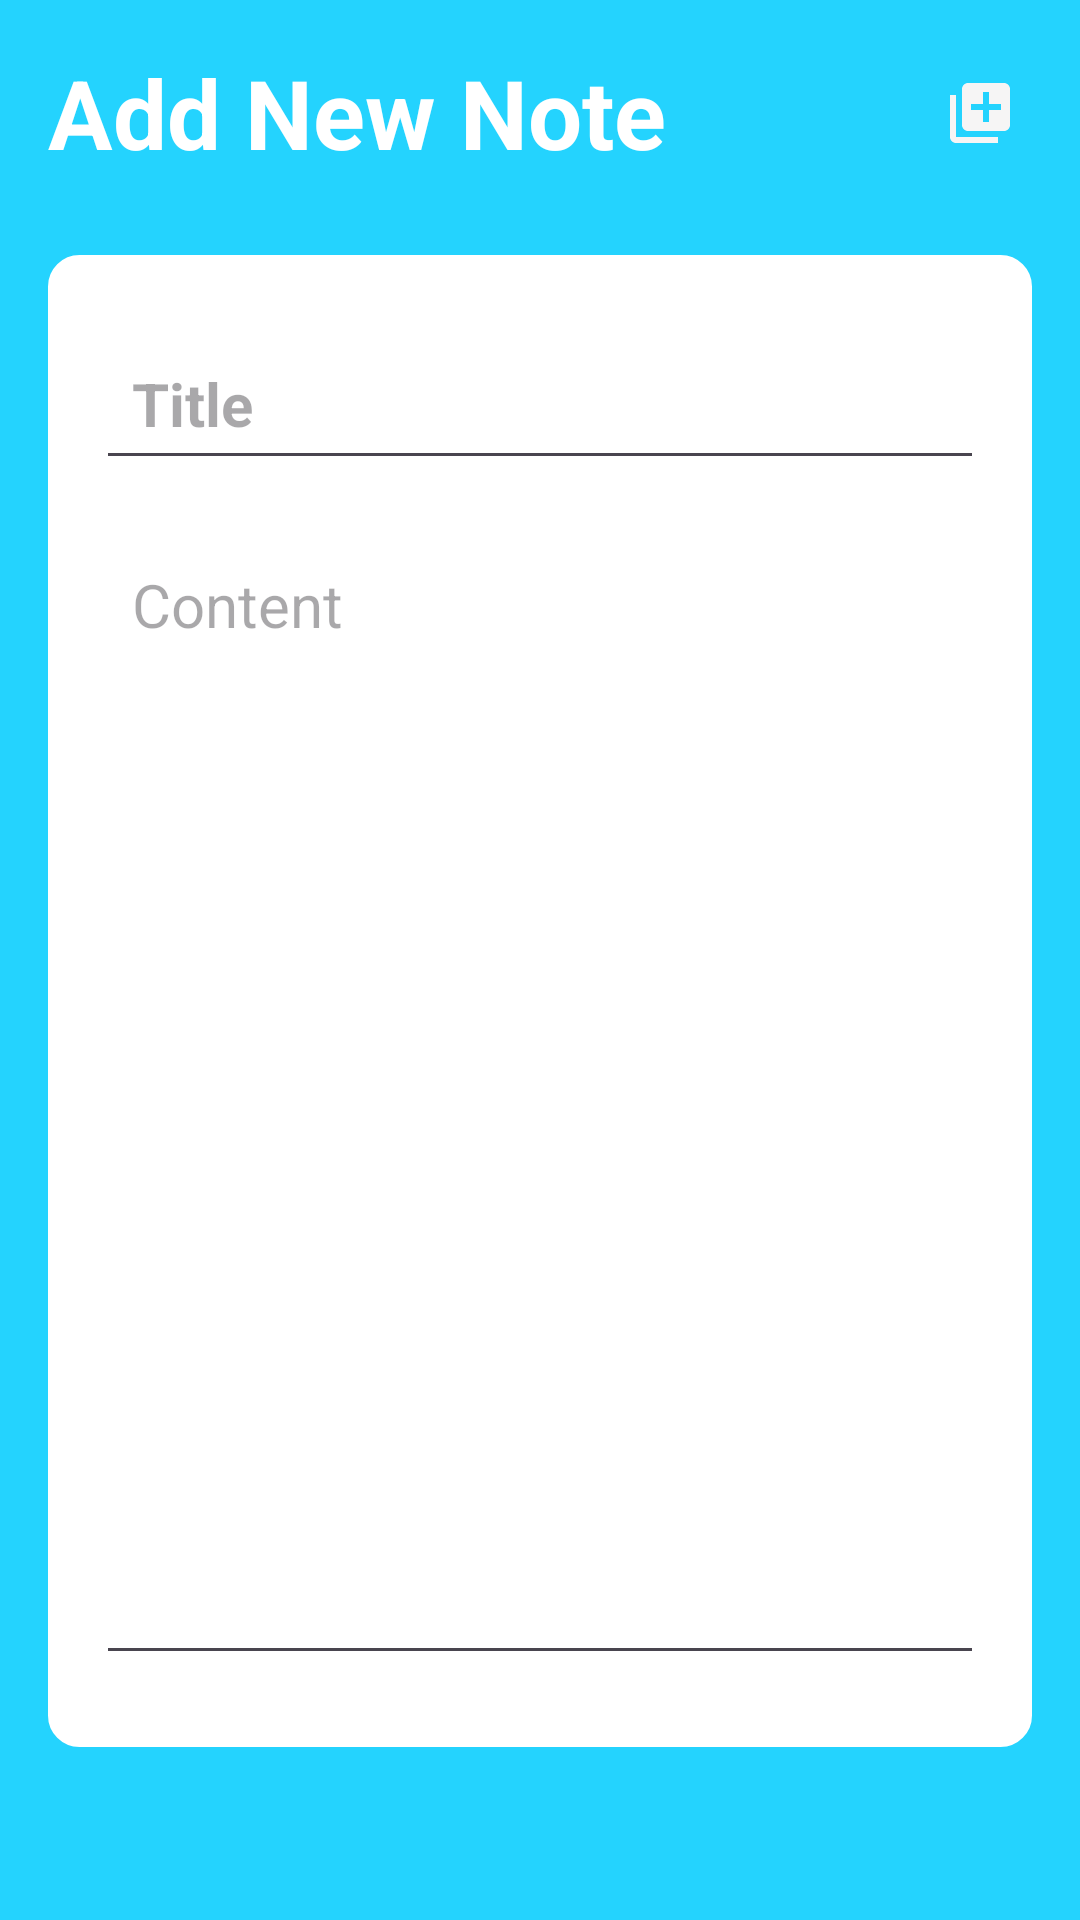

Where to tap for icons on this 1080*1920 app screen, as (x,y):
add note: (980,113)
